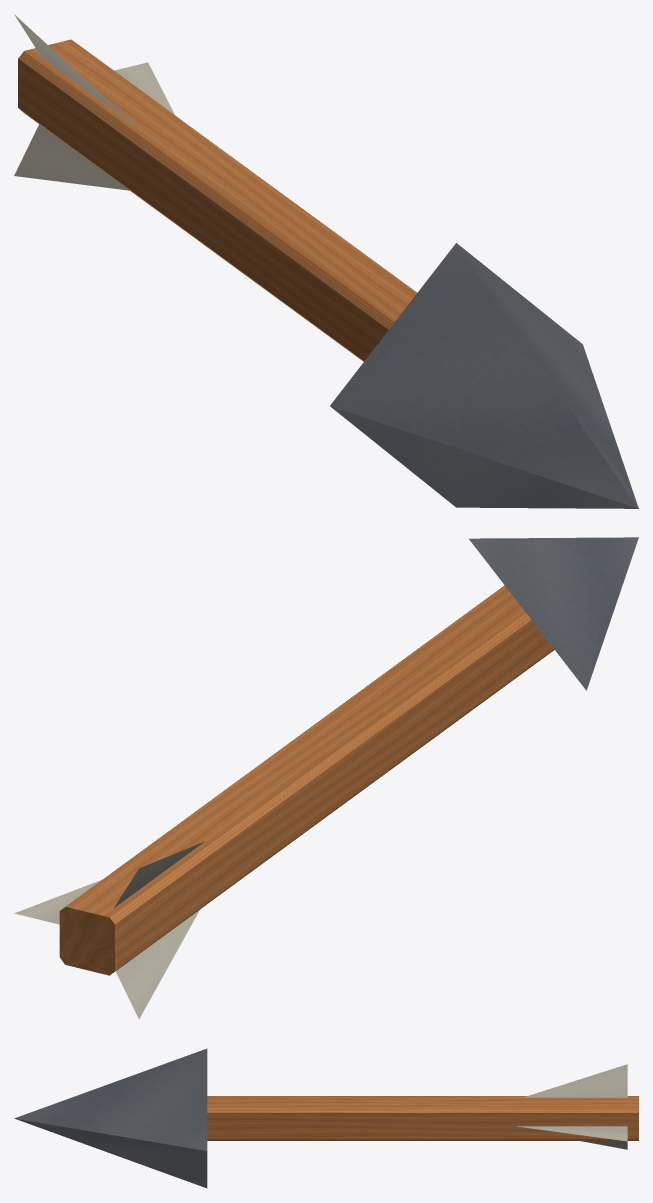
Rendered from tower_bolt.glb.
3 renders of one model, top to bottom at view 1: azimuth 30°, elevation 25°; view 2: azimuth 150°, elevation 25°; view 3: azimuth 270°, elevation 25°, orthographic. The views are drawn at different scales.
Parts seen in each view (by area): view 1: Bolt; view 2: Bolt; view 3: Bolt.
Boxes of the visible parts, x1=… form: Bolt: x1=14, y1=14, x2=638, y2=508; Bolt: x1=14, y1=537, x2=638, y2=1018; Bolt: x1=14, y1=1048, x2=638, y2=1188.
Size of the model in its own units: 0.136 by 0.136 by 0.55.
1 material, 1 textured.
